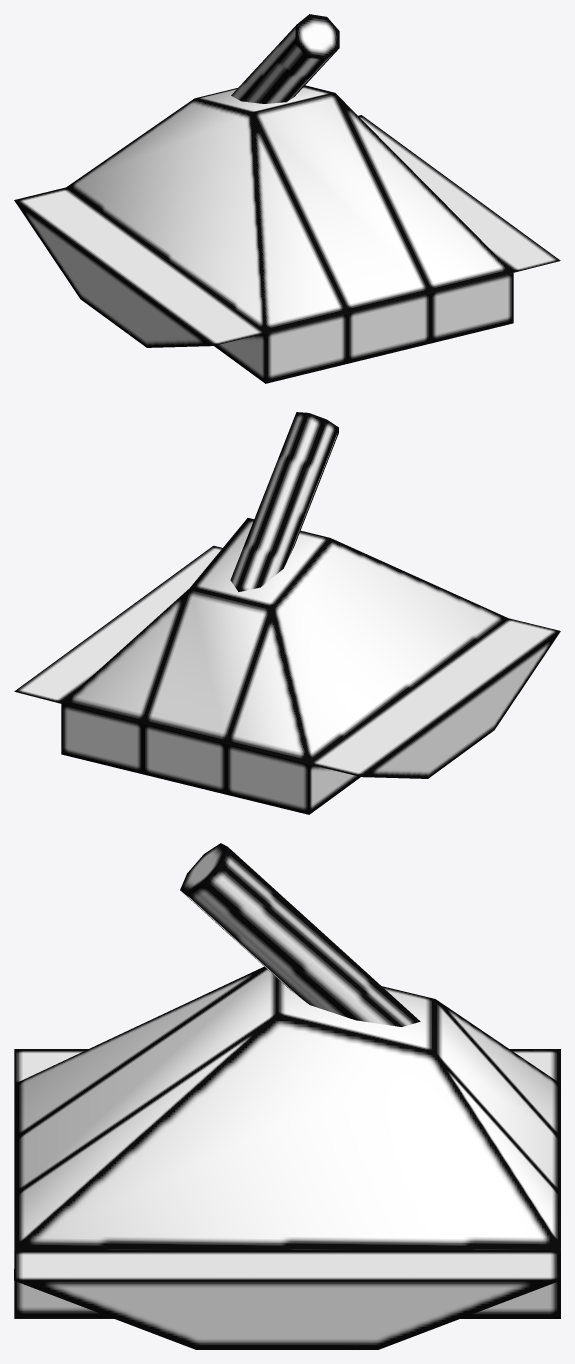
The model's file is AntiAirTank1.obj.
3 renders of one model, top to bottom at view 1: azimuth 30°, elevation 25°; view 2: azimuth 150°, elevation 25°; view 3: azimuth 270°, elevation 25°, orthographic. The views are drawn at different scales.
Visible parts, largest first — view 1: Box19; view 2: Box19; view 3: Box19.
Part boxes in pixels (box(x1,y1,x2,y2)): Box19: box(14, 14, 560, 383); Box19: box(14, 412, 560, 814); Box19: box(14, 843, 560, 1349).
Bounding box in the file's own units: 2.01 × 1.57 × 2.
1 material, 1 textured.
